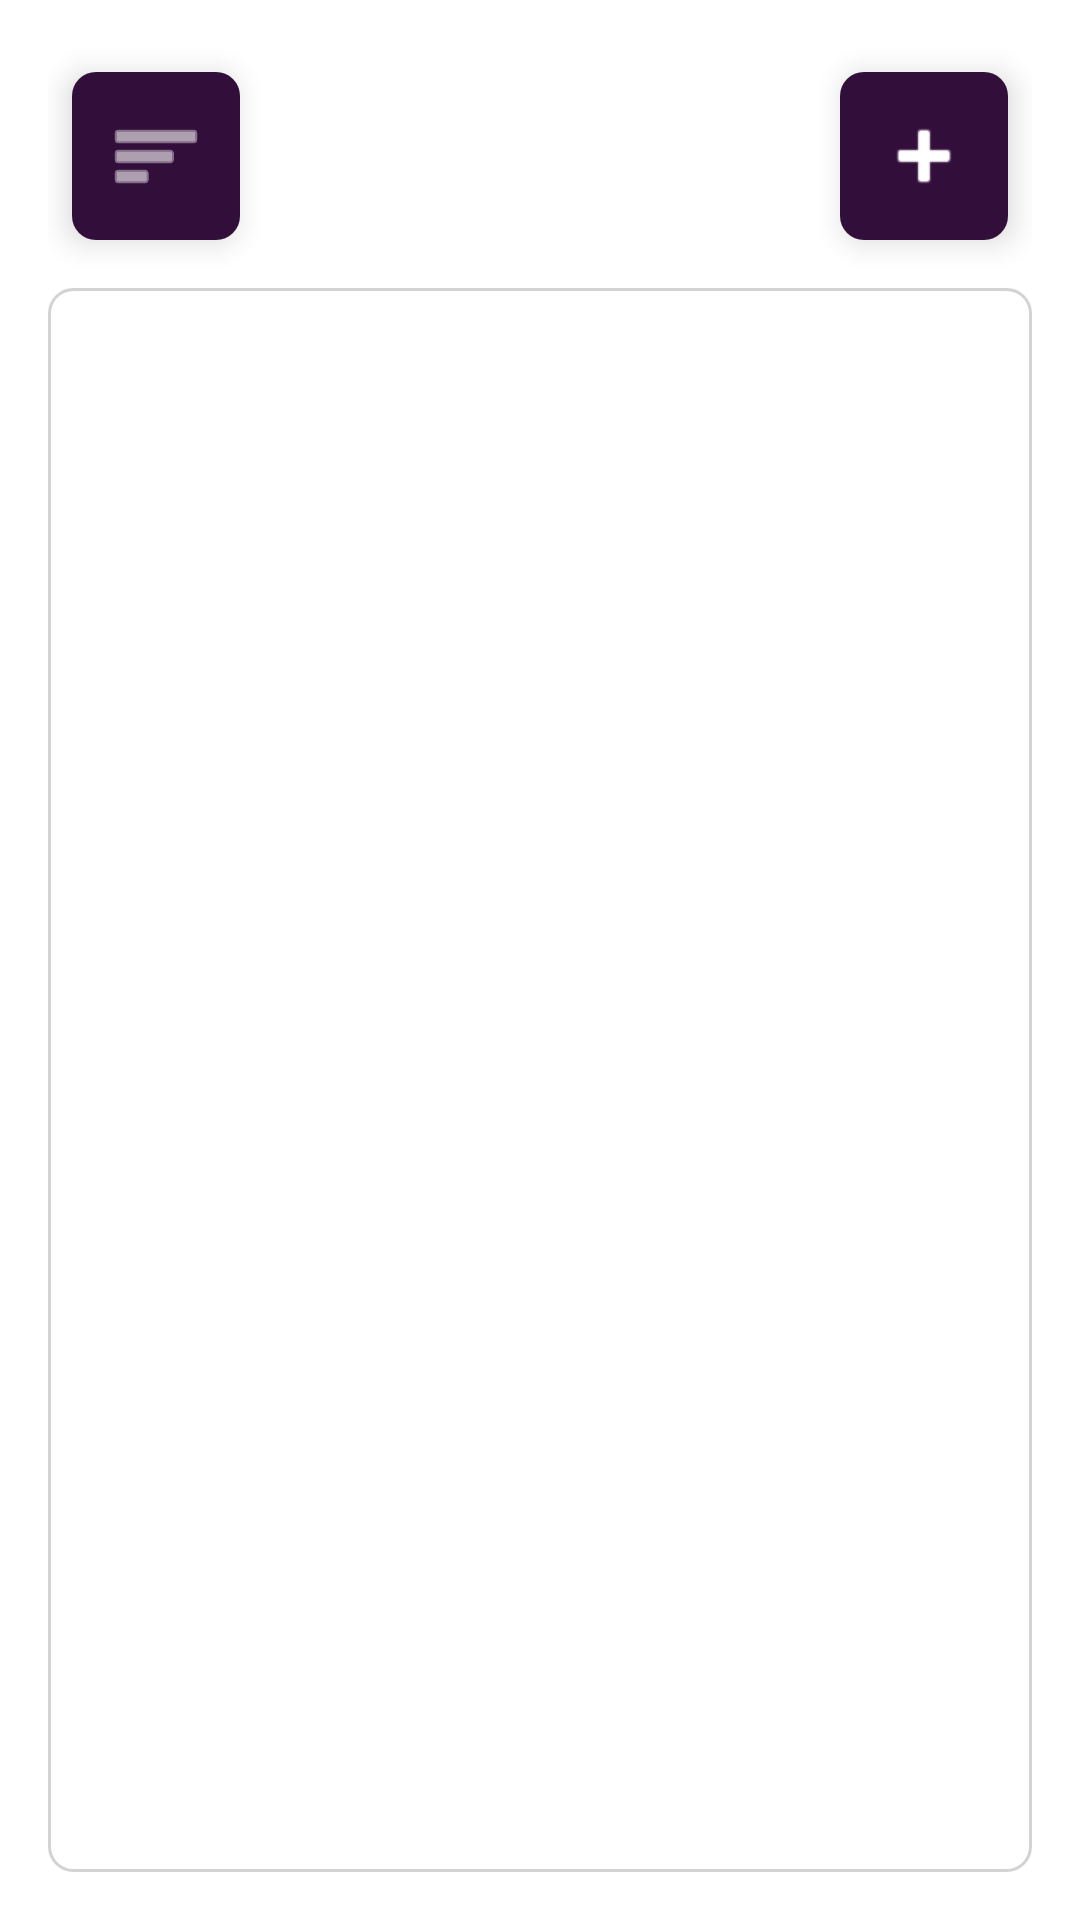

Named icons in this screenshot (1080×1920) and their bounding boxes, (x1, y1, x2, y2):
Agregar Cliente: (840, 72, 1008, 240)
Filtrar: (72, 72, 240, 240)
